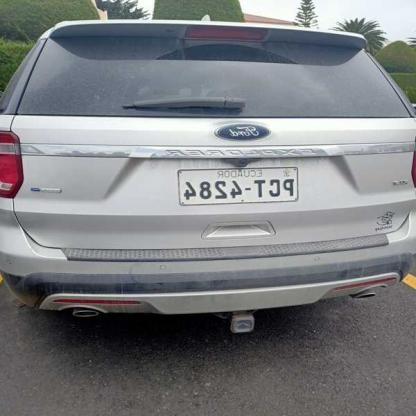Placa: (176, 166, 295, 203)
